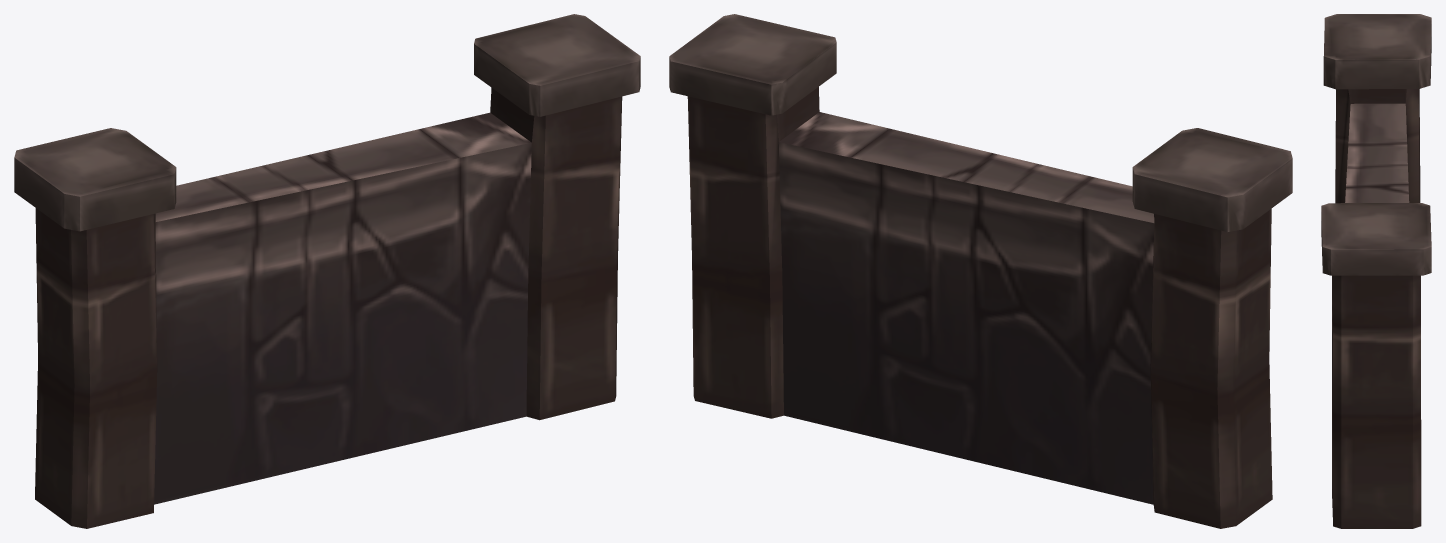
Rendered from rock_19.fbx.
3 views of the same model, side by side, from view 1: azimuth 30°, elevation 25°; view 2: azimuth 150°, elevation 25°; view 3: azimuth 270°, elevation 25° (orthographic). The views are drawn at different scales.
Parts seen in each view (by area): view 1: rock_19; view 2: rock_19; view 3: rock_19.
Boxes of the visible parts, x1,y1,x2,y2 form: rock_19: (14,14,640,528); rock_19: (669,14,1292,528); rock_19: (1321,14,1431,528).
Size of the model in its own units: 2.93 by 1.66 by 0.579.
